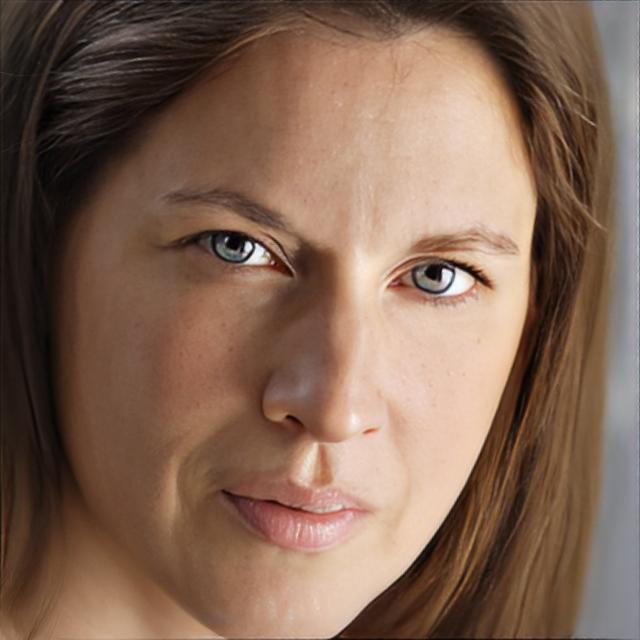content: (60, 11, 542, 640)
